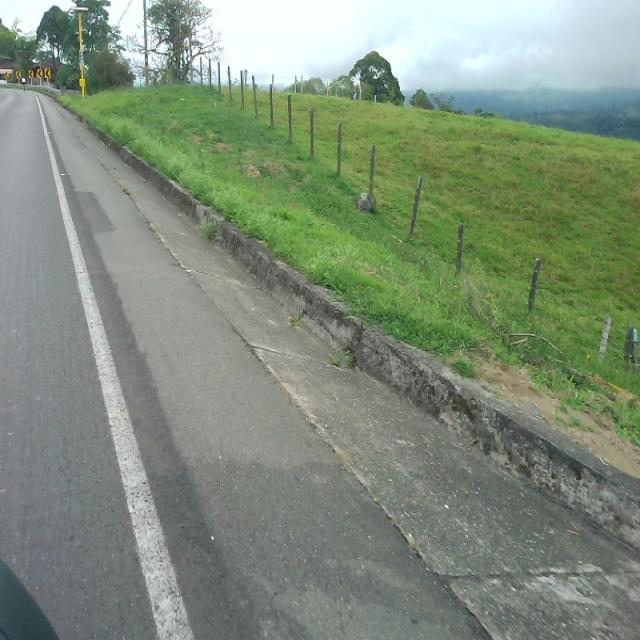DITCH: (31, 86, 639, 638)
